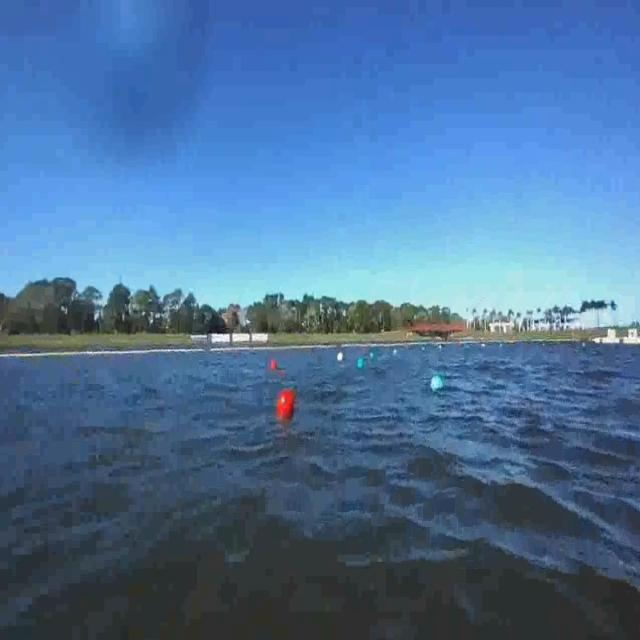green-buoy: (431, 372, 444, 392), (357, 356, 365, 369)
red-buoy: (278, 390, 294, 416), (268, 353, 278, 373)
yellow-buoy: (336, 351, 344, 363)
